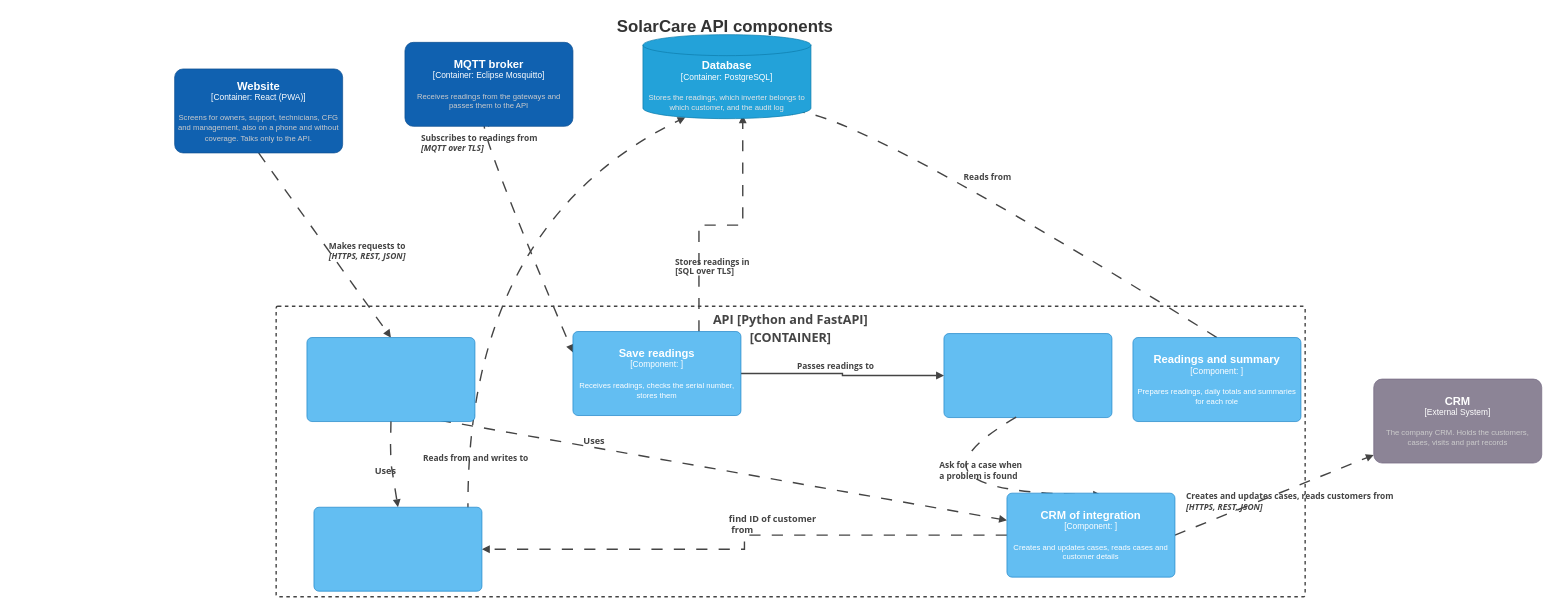
Some shapes in this 1554 by 609 pixel diagram are drawn without their labels. The shapes that lost their labels are listed below. From the top down, each one's centre as x and y in pixels, then its label:
At (390,379): "Access check [Component: ] Checks the user's login and role on every request".
At (1027,375): "Check readings [Component: ] Finds missing or odd reading".
At (397,549): "Customer link [Component: ] Connects an inverter serial number to a customer ID".
